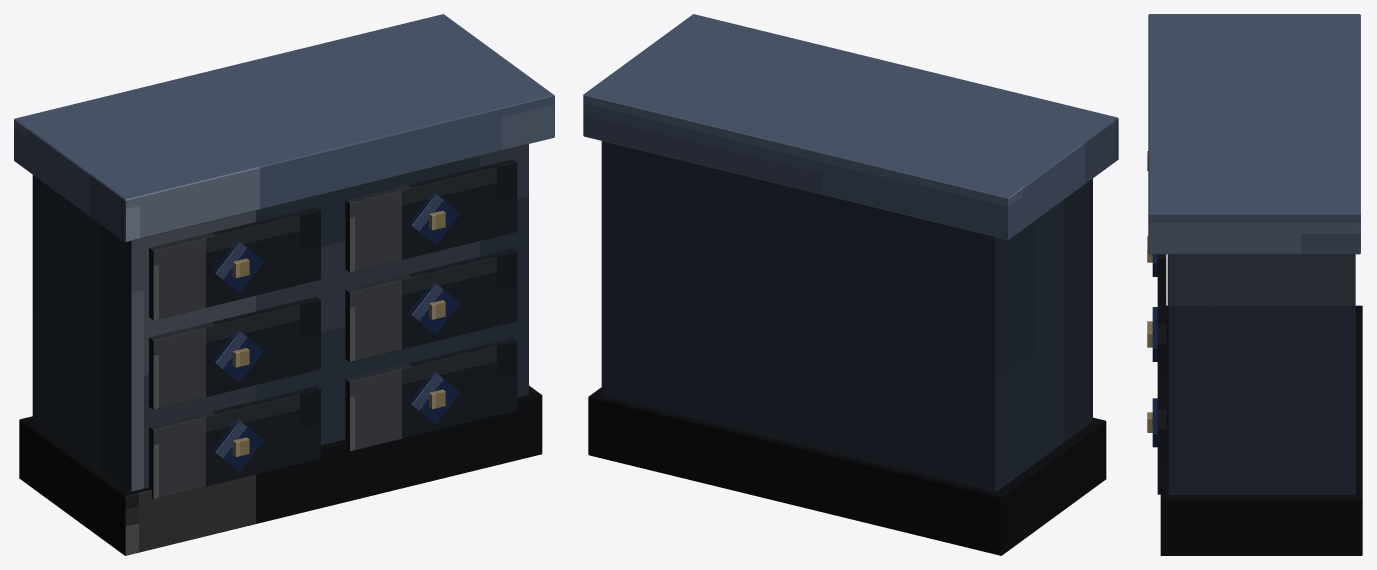
The model's file is gothic_dresser_midnight.glb.
3 views of the same model, side by side, from view 1: azimuth 30°, elevation 25°; view 2: azimuth 150°, elevation 25°; view 3: azimuth 270°, elevation 25° (orthographic). The views are drawn at different scales.
Parts seen in each view (by area): view 1: DresserTop, DresserBody, DresserPlinth, Drawer_0_1, Drawer_1_1, Drawer_2_1, Drawer_1_0, Drawer_0_0, Drawer_2_0, DrawerDiamond_0_1, DrawerDiamond_1_1, DrawerDiamond_0_0 (+3 smaller); view 2: DresserBody, DresserTop, DresserPlinth; view 3: DresserTop, DresserBody, DresserPlinth, Drawer_1_1, Drawer_2_1, Drawer_0_1, DrawerDiamond_2_1, DrawerDiamond_1_1.
Part boxes in pixels (x1=…): DresserTop: x1=14, y1=14, x2=554, y2=242; DresserBody: x1=32, y1=144, x2=528, y2=491; DresserPlinth: x1=19, y1=385, x2=542, y2=555; Drawer_0_1: x1=345, y1=159, x2=517, y2=272; Drawer_1_1: x1=345, y1=249, x2=517, y2=361; Drawer_2_1: x1=345, y1=338, x2=517, y2=451; Drawer_1_0: x1=149, y1=296, x2=320, y2=409; Drawer_0_0: x1=149, y1=207, x2=320, y2=320; Drawer_2_0: x1=149, y1=386, x2=320, y2=499; DrawerDiamond_0_1: x1=409, y1=192, x2=460, y2=244; DrawerDiamond_1_1: x1=409, y1=281, x2=460, y2=334; DrawerDiamond_0_0: x1=213, y1=240, x2=264, y2=292; DresserBody: x1=601, y1=141, x2=1092, y2=491; DresserTop: x1=583, y1=14, x2=1118, y2=239; DresserPlinth: x1=588, y1=387, x2=1106, y2=555; DresserTop: x1=1148, y1=14, x2=1360, y2=254; DresserBody: x1=1167, y1=254, x2=1355, y2=494; DresserPlinth: x1=1160, y1=305, x2=1362, y2=555; Drawer_1_1: x1=1157, y1=324, x2=1166, y2=409; Drawer_2_1: x1=1157, y1=409, x2=1166, y2=494; Drawer_0_1: x1=1157, y1=254, x2=1166, y2=324; DrawerDiamond_2_1: x1=1152, y1=398, x2=1157, y2=447; DrawerDiamond_1_1: x1=1152, y1=313, x2=1157, y2=361.
Bounding box in the file's own units: 1.36 × 1.09 × 0.618.
1 material, 1 textured.
